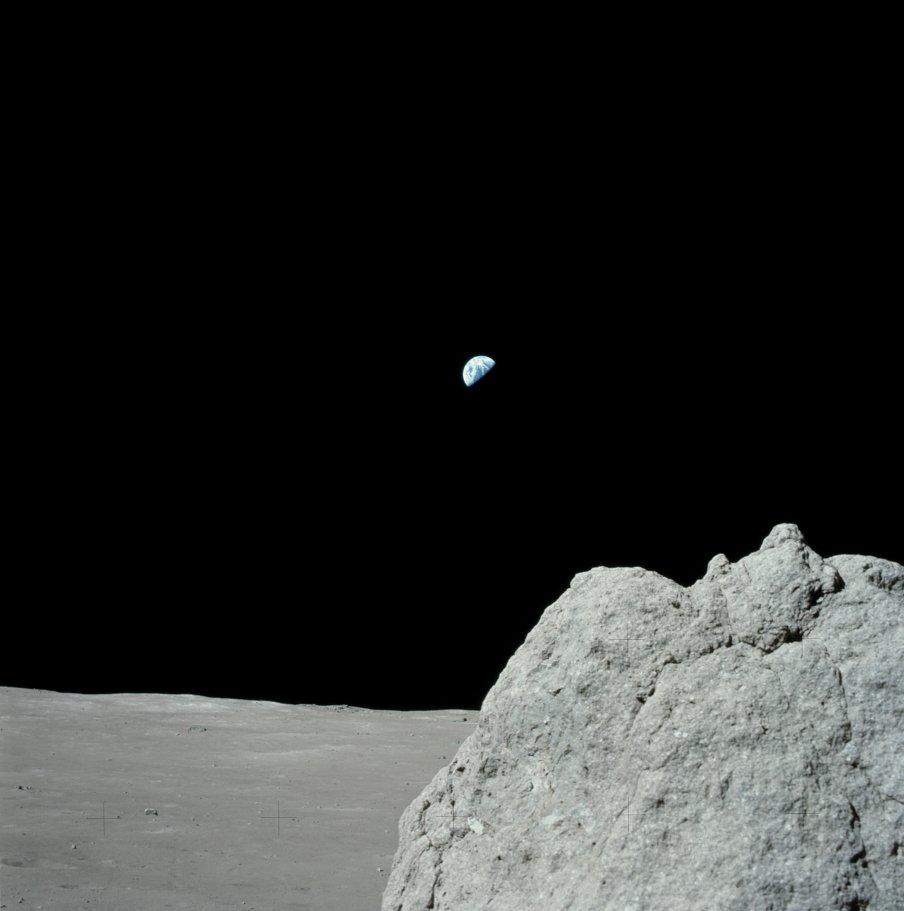rock: (383, 523, 904, 911)
